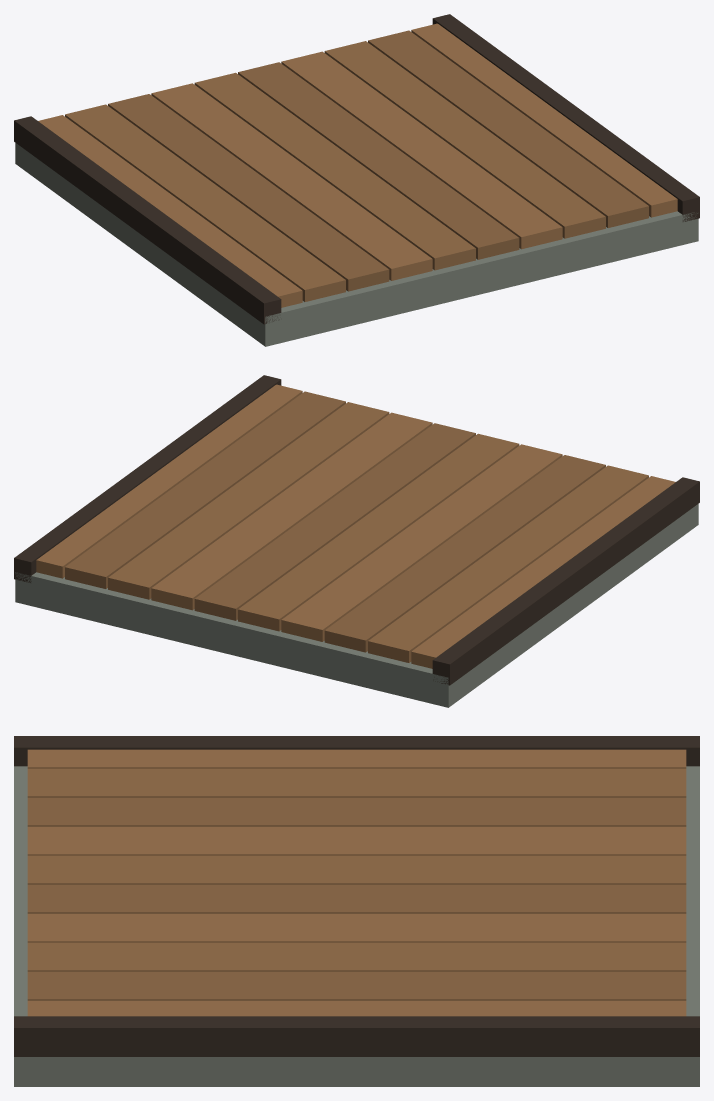
The model's file is Floor_Full_Foundation.glb.
The picture shows the model from 3 angles, top to bottom: view 1: azimuth 30°, elevation 25°; view 2: azimuth 150°, elevation 25°; view 3: azimuth 270°, elevation 25°; orthographic projection. The views are drawn at different scales.
Parts seen in each view (by area): view 1: _MeshInstance3D_3805, _MeshInstance3D_3812, _MeshInstance3D_3808, _MeshInstance3D_3809, _MeshInstance3D_3811, _MeshInstance3D_3810, _MeshInstance3D_3813, _MeshInstance3D_3807, _MeshInstance3D_3814, _MeshInstance3D_3816, _MeshInstance3D_3815, _MeshInstance3D_3806 (+1 smaller); view 2: _MeshInstance3D_3805, _MeshInstance3D_3812, _MeshInstance3D_3808, _MeshInstance3D_3809, _MeshInstance3D_3811, _MeshInstance3D_3810, _MeshInstance3D_3813, _MeshInstance3D_3807, _MeshInstance3D_3814, _MeshInstance3D_3816, _MeshInstance3D_3815, _MeshInstance3D_3806 (+1 smaller); view 3: _MeshInstance3D_3817, _MeshInstance3D_3805, _MeshInstance3D_3807, _MeshInstance3D_3808, _MeshInstance3D_3809, _MeshInstance3D_3810, _MeshInstance3D_3811, _MeshInstance3D_3812, _MeshInstance3D_3813, _MeshInstance3D_3814, _MeshInstance3D_3806, _MeshInstance3D_3815 (+1 smaller).
Part boxes in pixels (x1,y1,x2,y2): _MeshInstance3D_3805: (15,143,698,346); _MeshInstance3D_3812: (281,51,562,249); _MeshInstance3D_3808: (108,94,389,291); _MeshInstance3D_3809: (151,83,432,280); _MeshInstance3D_3811: (238,62,519,259); _MeshInstance3D_3810: (194,72,475,270); _MeshInstance3D_3813: (324,41,605,238); _MeshInstance3D_3807: (65,104,345,301); _MeshInstance3D_3814: (368,30,648,227); _MeshInstance3D_3816: (14,116,281,324); _MeshInstance3D_3815: (411,23,677,217); _MeshInstance3D_3806: (38,115,302,307); _MeshInstance3D_3805: (15,504,698,707); _MeshInstance3D_3812: (151,412,432,610); _MeshInstance3D_3808: (324,455,605,652); _MeshInstance3D_3809: (281,444,562,641); _MeshInstance3D_3811: (194,423,475,620); _MeshInstance3D_3810: (238,433,519,631); _MeshInstance3D_3813: (108,402,389,599); _MeshInstance3D_3807: (368,465,648,662); _MeshInstance3D_3814: (65,391,345,588); _MeshInstance3D_3816: (432,477,699,685); _MeshInstance3D_3815: (36,384,302,578); _MeshInstance3D_3806: (411,476,675,668); _MeshInstance3D_3817: (14,1016,699,1056); _MeshInstance3D_3805: (14,766,699,1086); _MeshInstance3D_3807: (27,768,686,797); _MeshInstance3D_3808: (27,797,686,826); _MeshInstance3D_3809: (27,826,686,855); _MeshInstance3D_3810: (27,855,686,884); _MeshInstance3D_3811: (27,884,686,913); _MeshInstance3D_3812: (27,913,686,942); _MeshInstance3D_3813: (27,942,686,971); _MeshInstance3D_3814: (27,971,686,1000); _MeshInstance3D_3806: (27,749,686,768); _MeshInstance3D_3815: (27,1000,686,1016).
Bounding box in the file's own units: 3.02 × 0.29 × 3.
